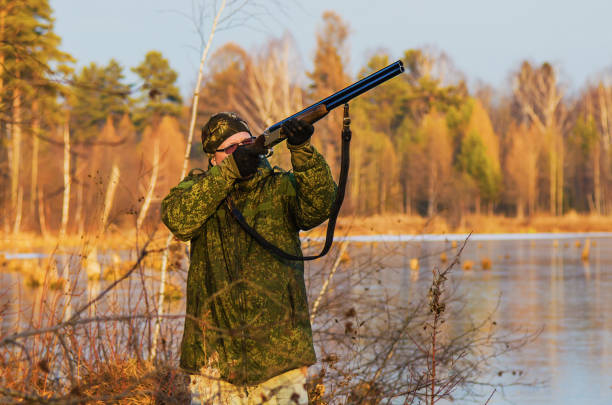gun: (255, 57, 409, 161)
